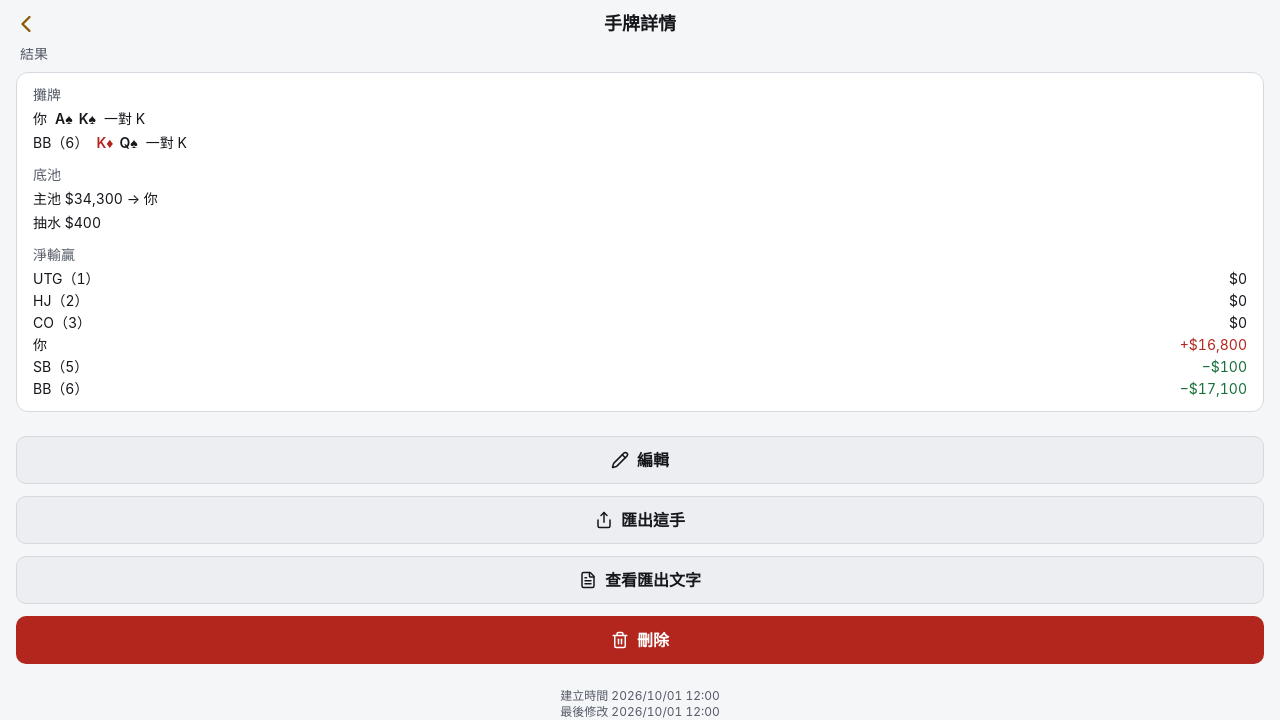
Test: 6.2 手牌詳情：匯出這手、查看匯出文字 › 查看匯出文字：等寬字型顯示這手的 PokerStars 文字（使用匯出名稱），「複製」在 click 中同步呼叫剪貼簿
(page scrolled)
Click the button "查看匯出文字" at (640, 580), box [16, 556, 1264, 604]
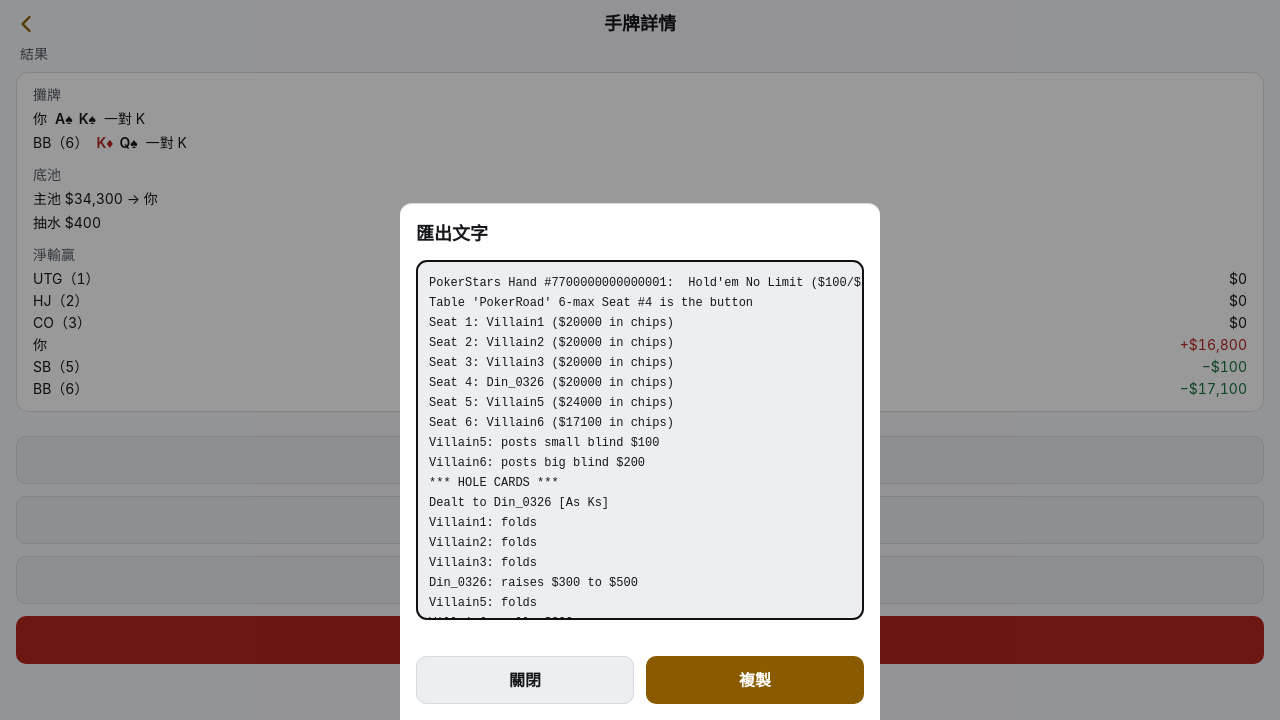
Click the button "複製" at (755, 680), box [646, 656, 864, 704]
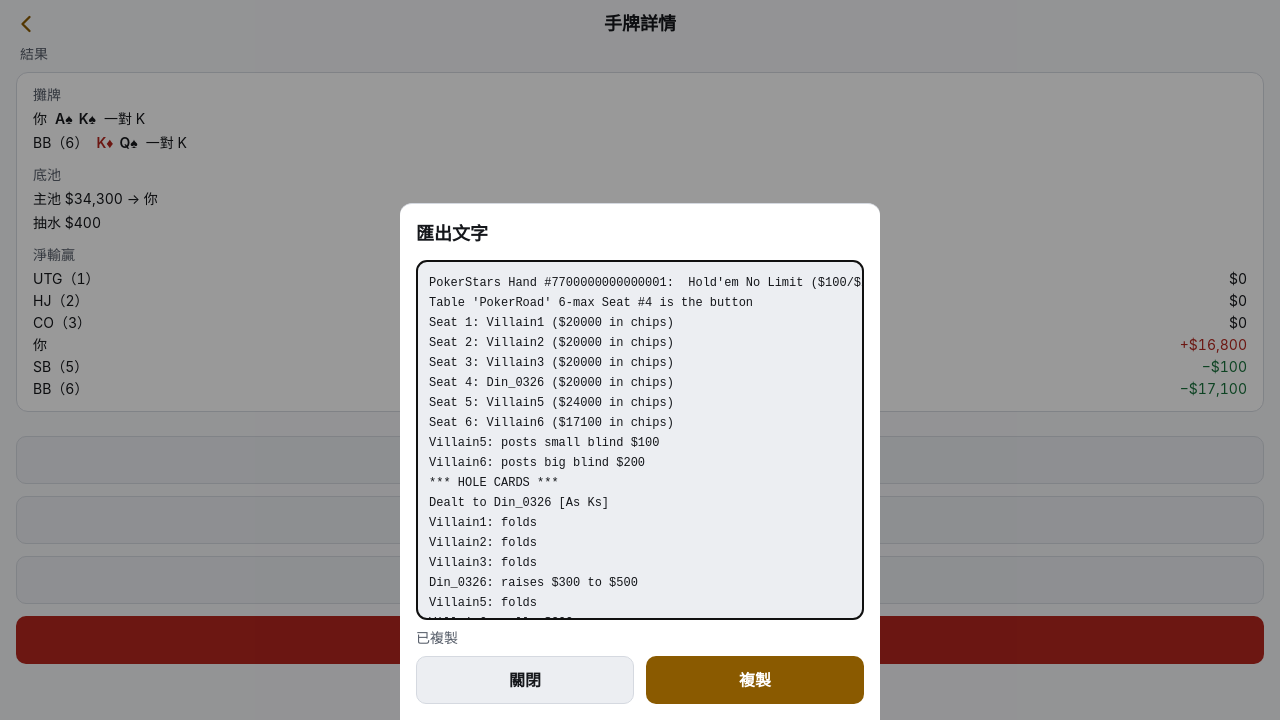
Now the message with test id "export-copy-status" reads "已複製", box [416, 629, 458, 646]
